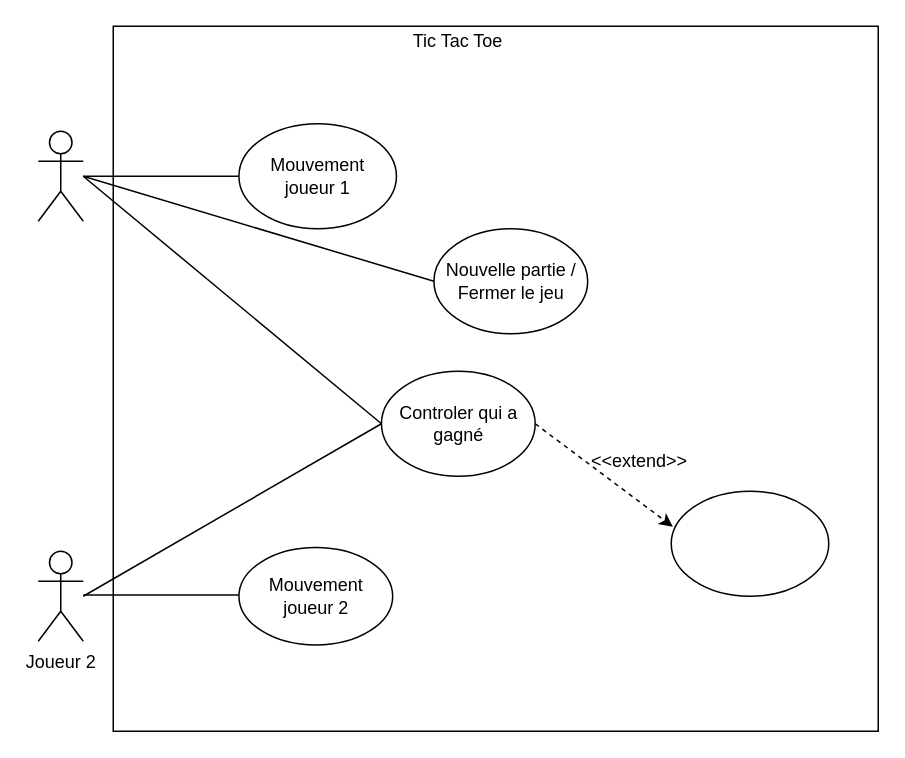
Some shapes in this 905 by 758 pixel diagram are drawn without their labels. The shapes that lost their labels are listed below. From the top down, each one's centre as x and y in pixels, then its label:
At pixel 60 175: "Joueur 1".
At pixel 749 543: "Montrer le score de fin de partie".
